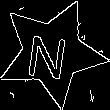N_N: (29, 25, 75, 80)
